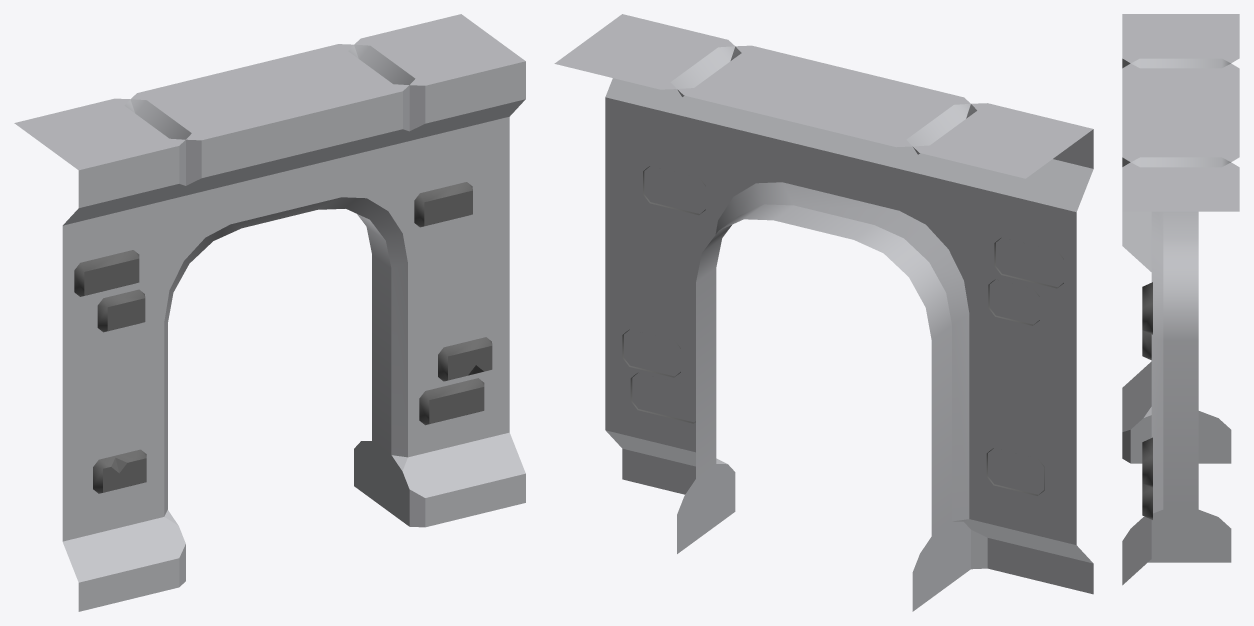
The model's file is Wall_Doorway.fbx.
3 renders of one model, left to right at view 1: azimuth 30°, elevation 25°; view 2: azimuth 150°, elevation 25°; view 3: azimuth 270°, elevation 25°, orthographic. The views are drawn at different scales.
Parts seen in each view (by area): view 1: Wall_Doorway.001; view 2: Wall_Doorway.001; view 3: Wall_Doorway.001.
Part boxes in pixels (bbox=[...]): Wall_Doorway.001: bbox=[14, 14, 525, 611]; Wall_Doorway.001: bbox=[554, 14, 1093, 611]; Wall_Doorway.001: bbox=[1122, 14, 1239, 585].
Bounding box in the file's own units: 1.47 × 1.39 × 0.3681.
1 material, 1 textured.
